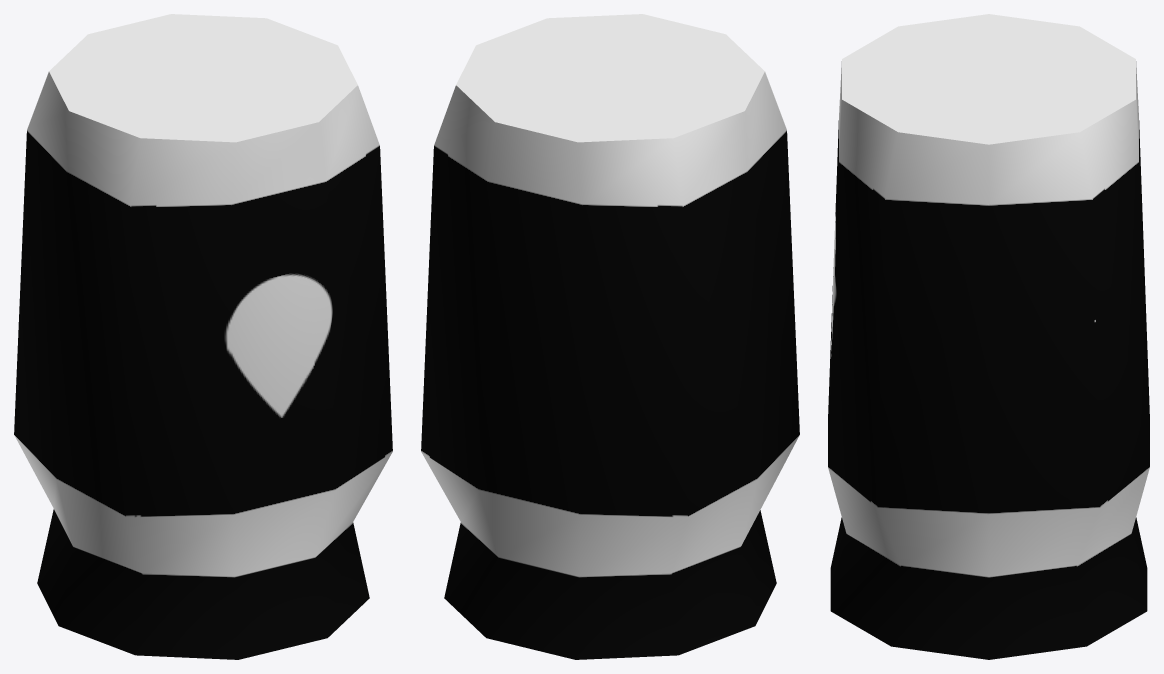
File: JunkiezBlenderBottle.fbx
The picture shows the model from 3 angles, left to right: view 1: azimuth 30°, elevation 25°; view 2: azimuth 150°, elevation 25°; view 3: azimuth 270°, elevation 25°; orthographic projection.
Visible parts, largest first — view 1: PeanutButter; view 2: PeanutButter; view 3: PeanutButter.
Part boxes in pixels (bbox=[...]): PeanutButter: bbox=[14, 14, 392, 659]; PeanutButter: bbox=[421, 14, 799, 659]; PeanutButter: bbox=[828, 14, 1149, 659].
Size of the model in its own units: 15.21 by 25.33 by 14.48.
